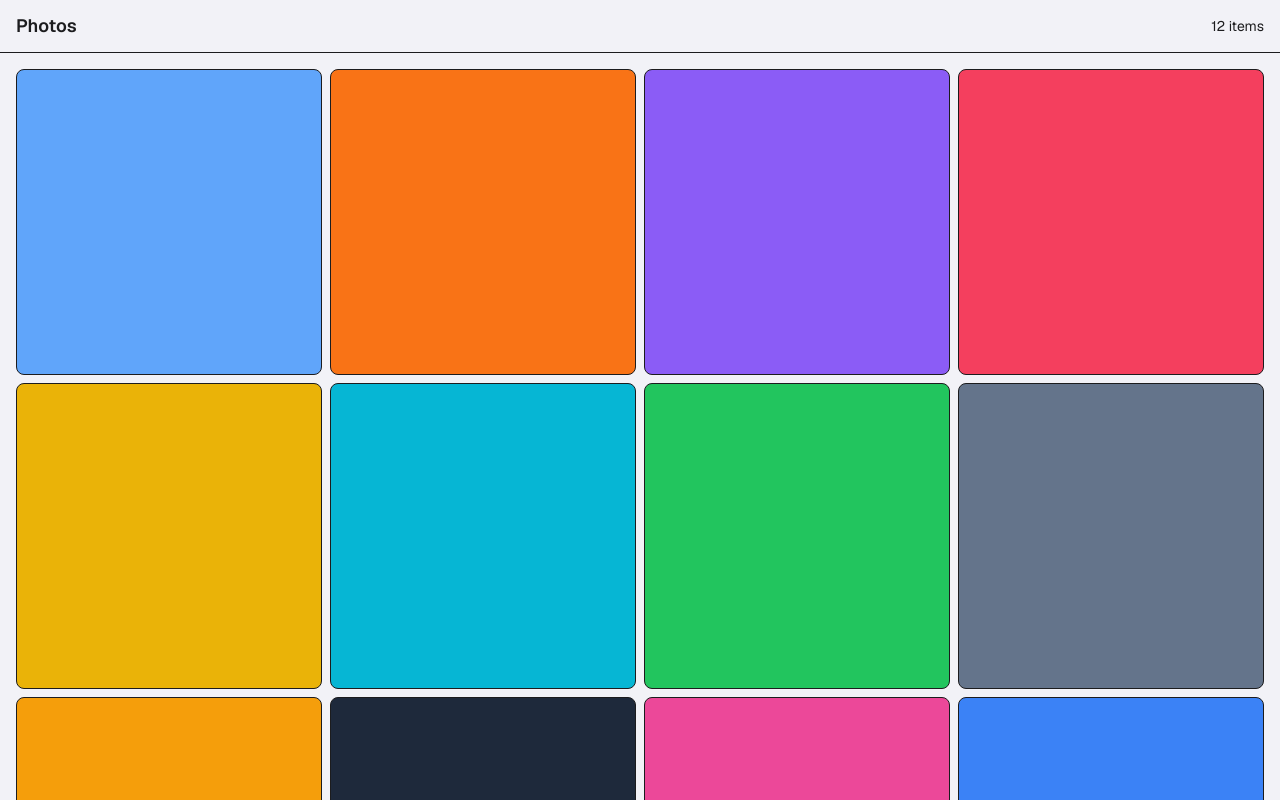
Test: Photos › navigates to the next photo in the lightbox
What coordinates should you click on to do the following:
click the button with test id "photos-item-1"
I would click on:
 (169, 222)
Its box is x1=16 y1=69 x2=322 y2=375.
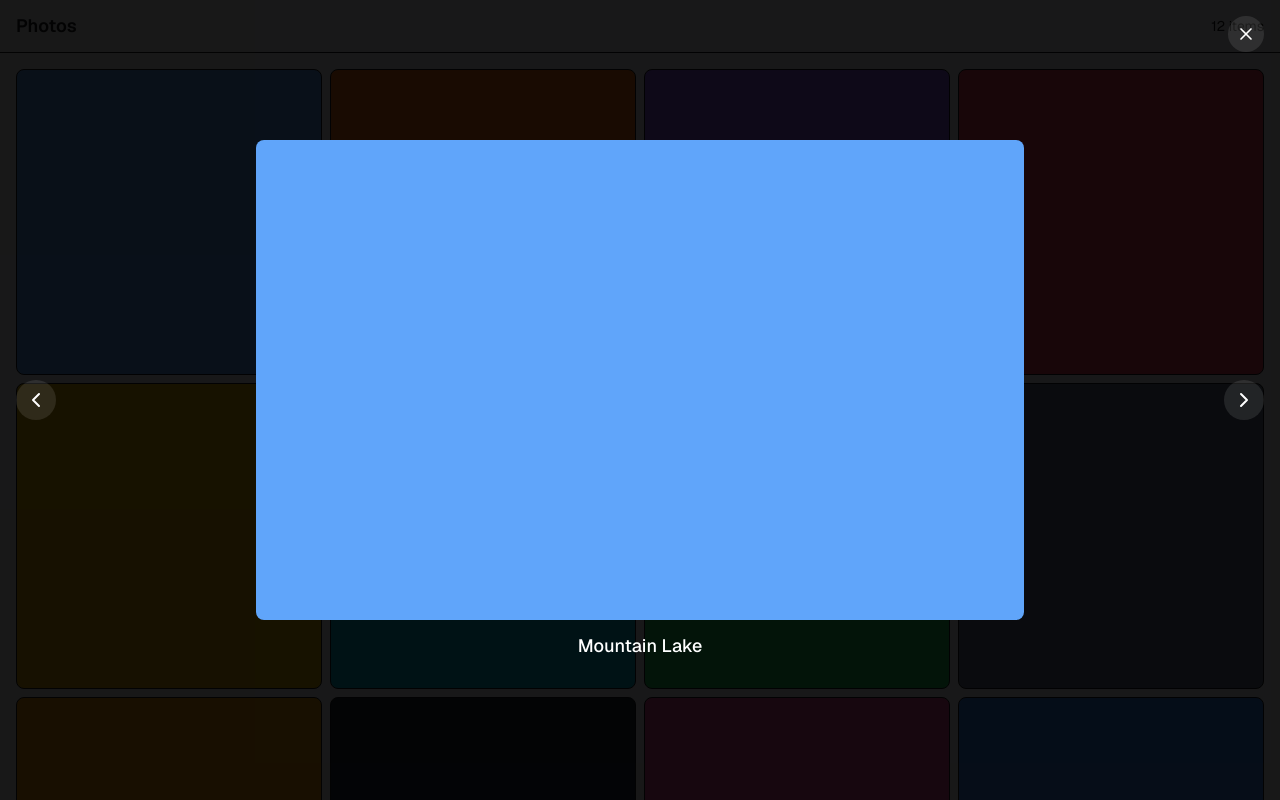
expect the text with test id "photos-lightbox-title" reads "Mountain Lake": met, box x1=578 y1=634 x2=702 y2=657
What coordinates should you click on to do the following:
click the button with test id "photos-lightbox-next"
I would click on:
 (1244, 400)
Its box is x1=1224 y1=380 x2=1264 y2=420.
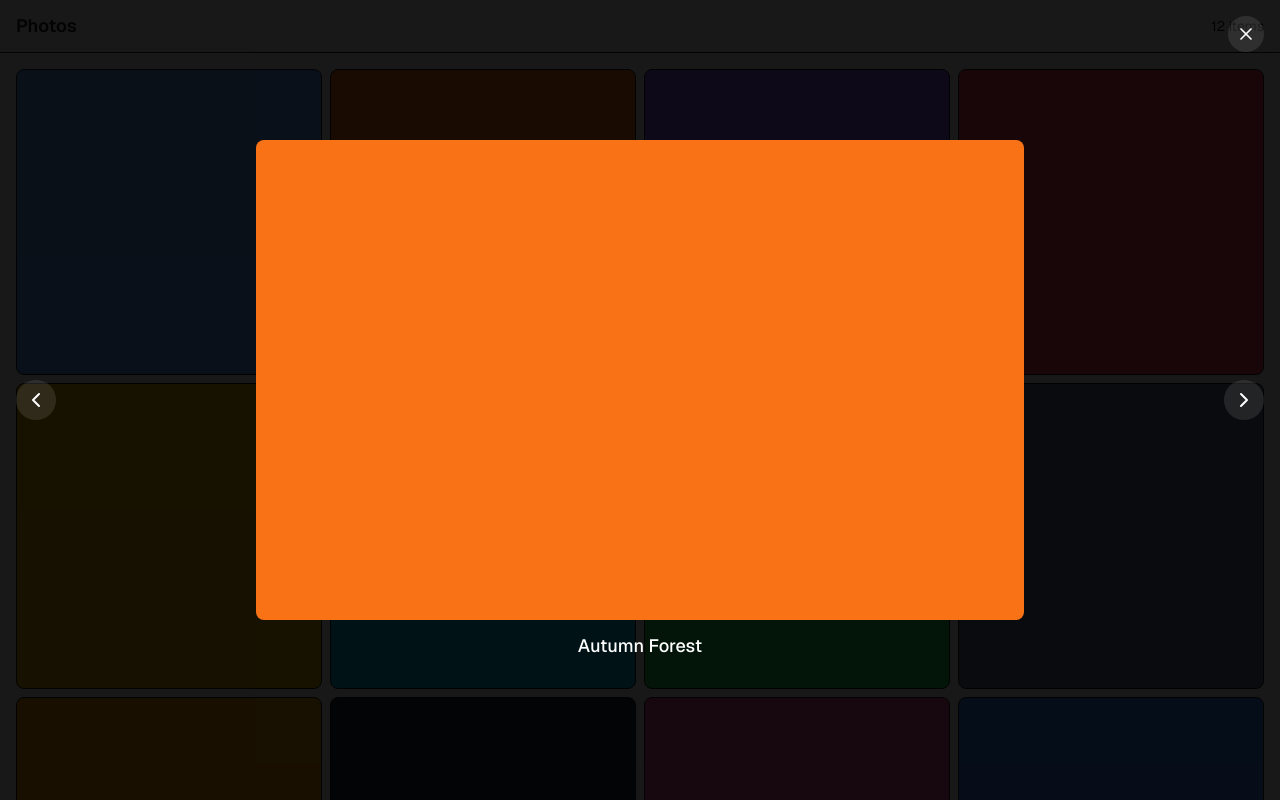
expect the text with test id "photos-lightbox-title" reads "Autumn Forest": met, box x1=578 y1=634 x2=702 y2=657
